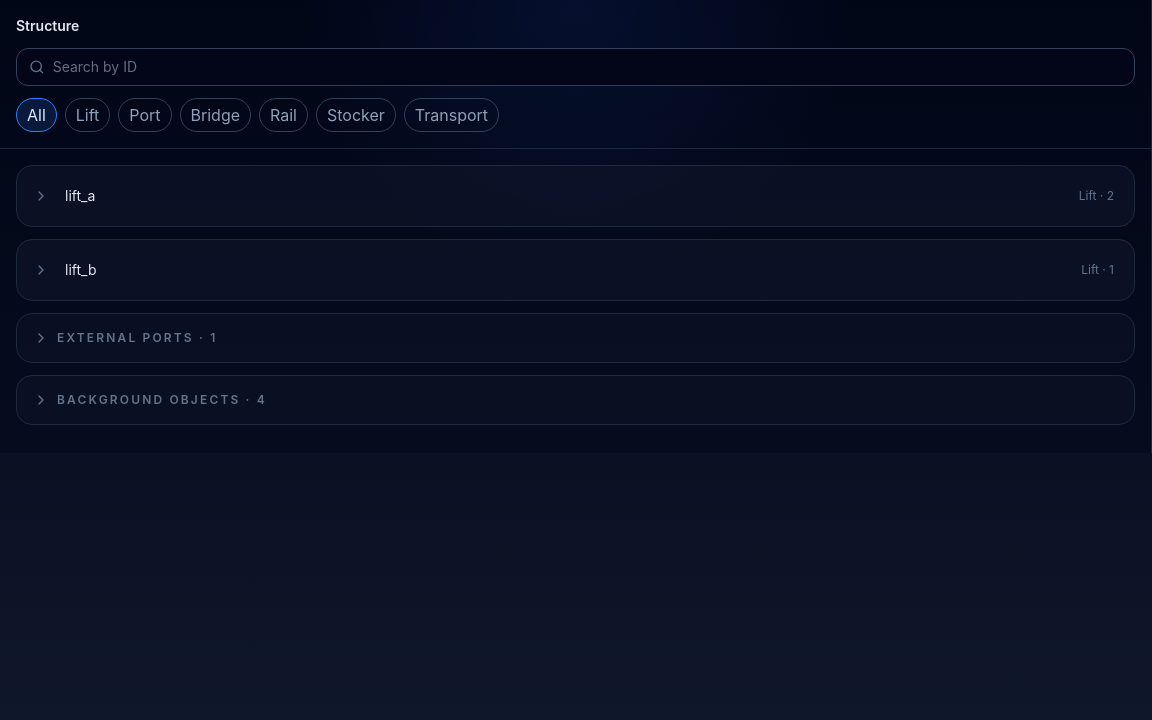
Test: StructurePanel › renders lift groups collapsed by default and reveals child ports when expanded
This screenshot has width=1152, height=720.
Expected: the button "port_a_01" is not shown
What coordinates should you click on to do the following:
click the button named "Expand lift_a"
I would click on:
 (41, 196)
Its box is [29,184,53,208].
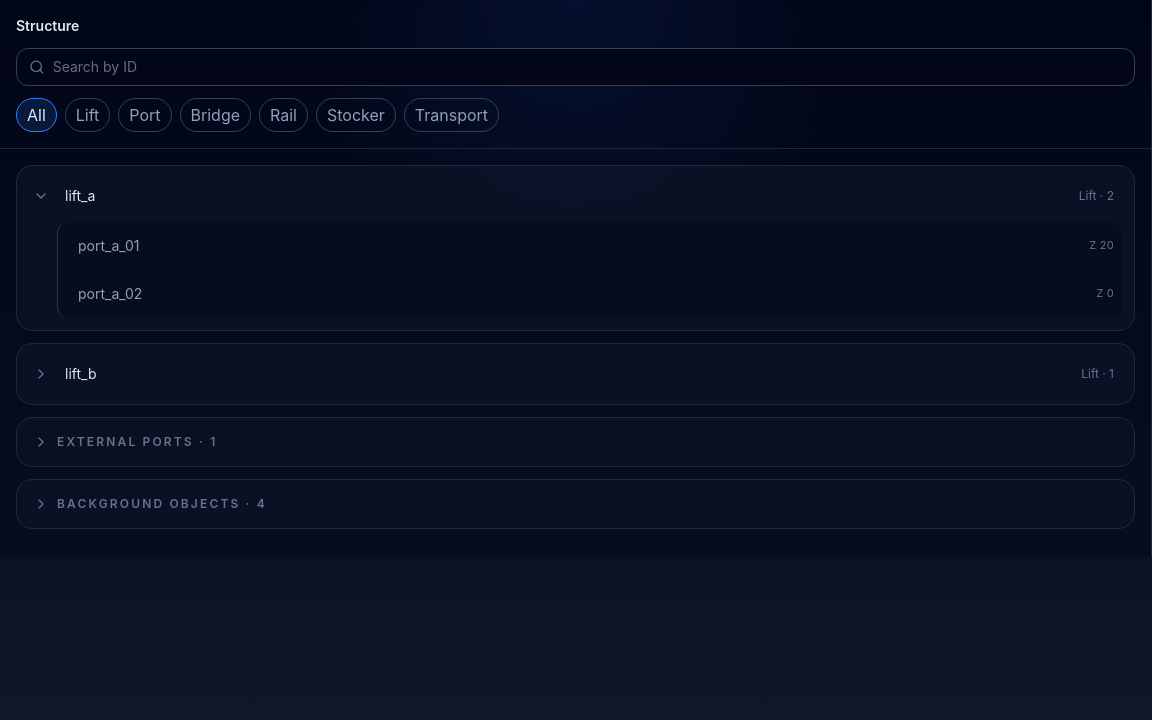
Result: the button "port_a_01 Z 20" is shown at [70,226,1122,266]
Result: the button named "Collapse lift_a" is shown at [29,184,53,208]
